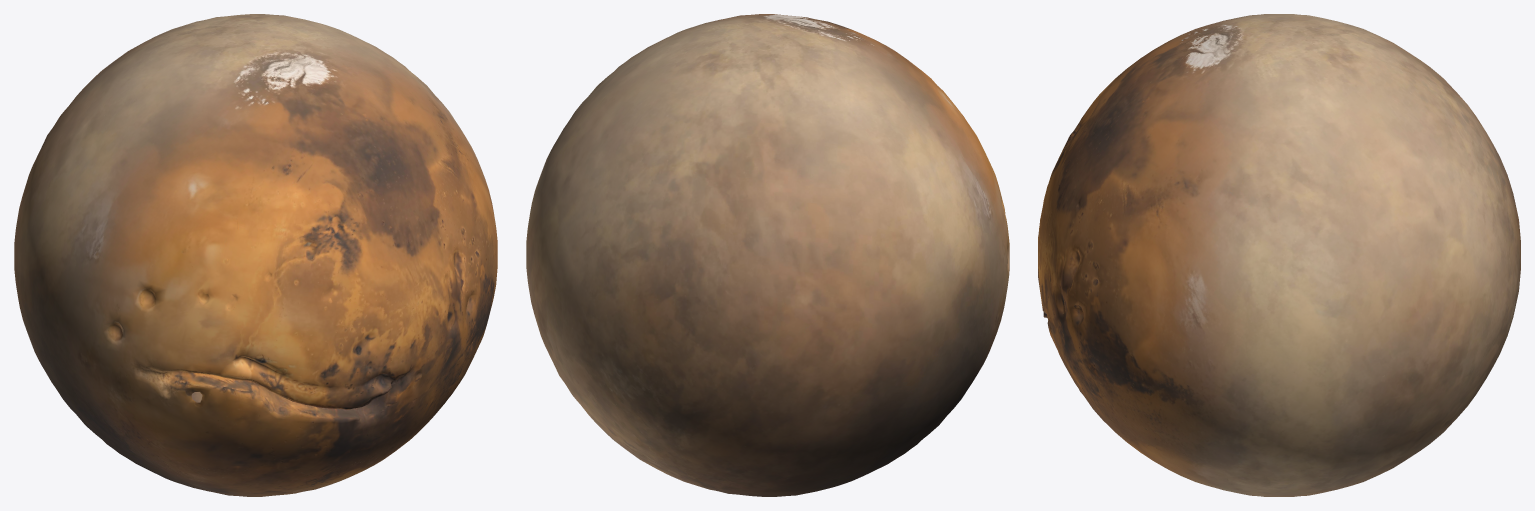
File: planet.glb
The picture shows the model from 3 angles, left to right: view 1: azimuth 30°, elevation 25°; view 2: azimuth 150°, elevation 25°; view 3: azimuth 270°, elevation 25°; orthographic projection.
Visible parts, largest first — view 1: tripo_node_d48b7ec4-89ad-42ae-86b4-11f4c0ba45b8; view 2: tripo_node_d48b7ec4-89ad-42ae-86b4-11f4c0ba45b8; view 3: tripo_node_d48b7ec4-89ad-42ae-86b4-11f4c0ba45b8.
Boxes of the visible parts, x1,y1,x2,y2 form: tripo_node_d48b7ec4-89ad-42ae-86b4-11f4c0ba45b8: (14,14,497,496); tripo_node_d48b7ec4-89ad-42ae-86b4-11f4c0ba45b8: (526,14,1009,496); tripo_node_d48b7ec4-89ad-42ae-86b4-11f4c0ba45b8: (1038,14,1520,496).
Bounding box in the file's own units: 0.9774 × 0.9774 × 0.9735.
1 material, 1 textured.
